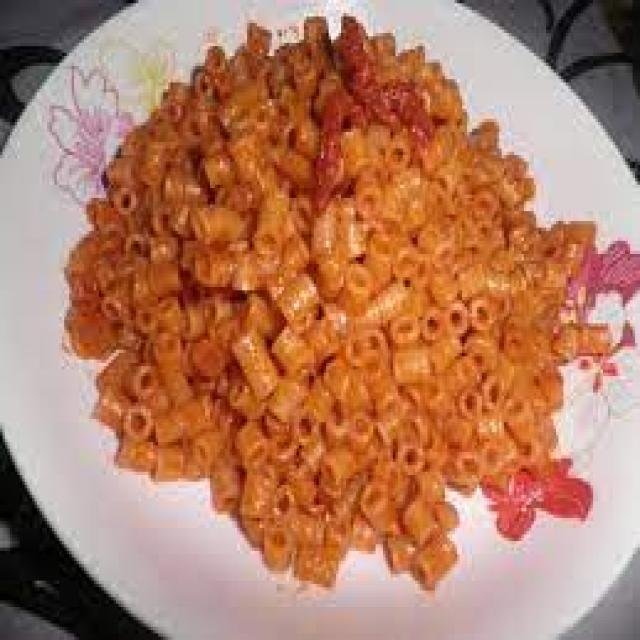Pasta: (72, 24, 605, 572)
